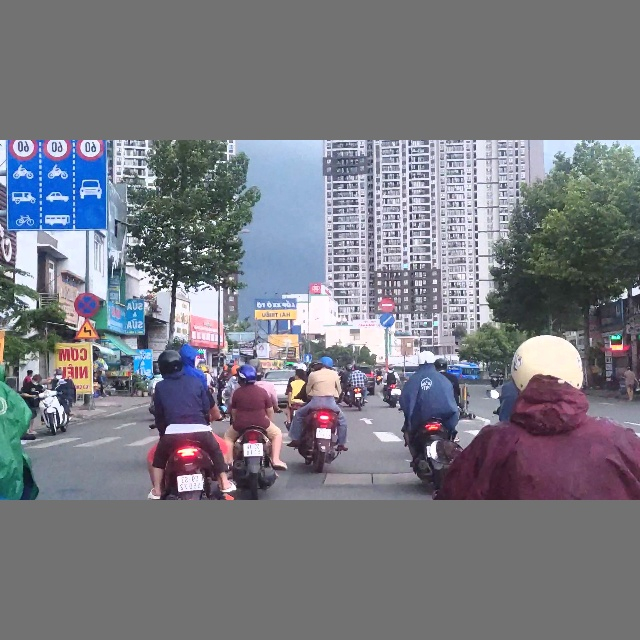I.407a: (303, 354, 311, 362)
I.434a: (232, 347, 240, 358)
P.102: (379, 298, 394, 312)
P.127*60: (9, 140, 38, 161), (76, 140, 105, 160), (43, 140, 71, 160)
P.130: (75, 292, 99, 317)
R.302a: (379, 313, 394, 328)
R.415a: (7, 162, 107, 231)
W.202b: (75, 319, 100, 340)
